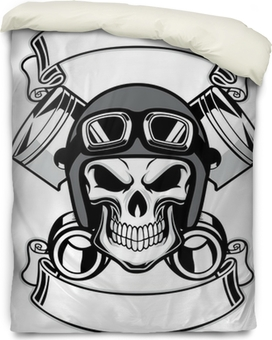with_helmet: (64, 85, 205, 230)
